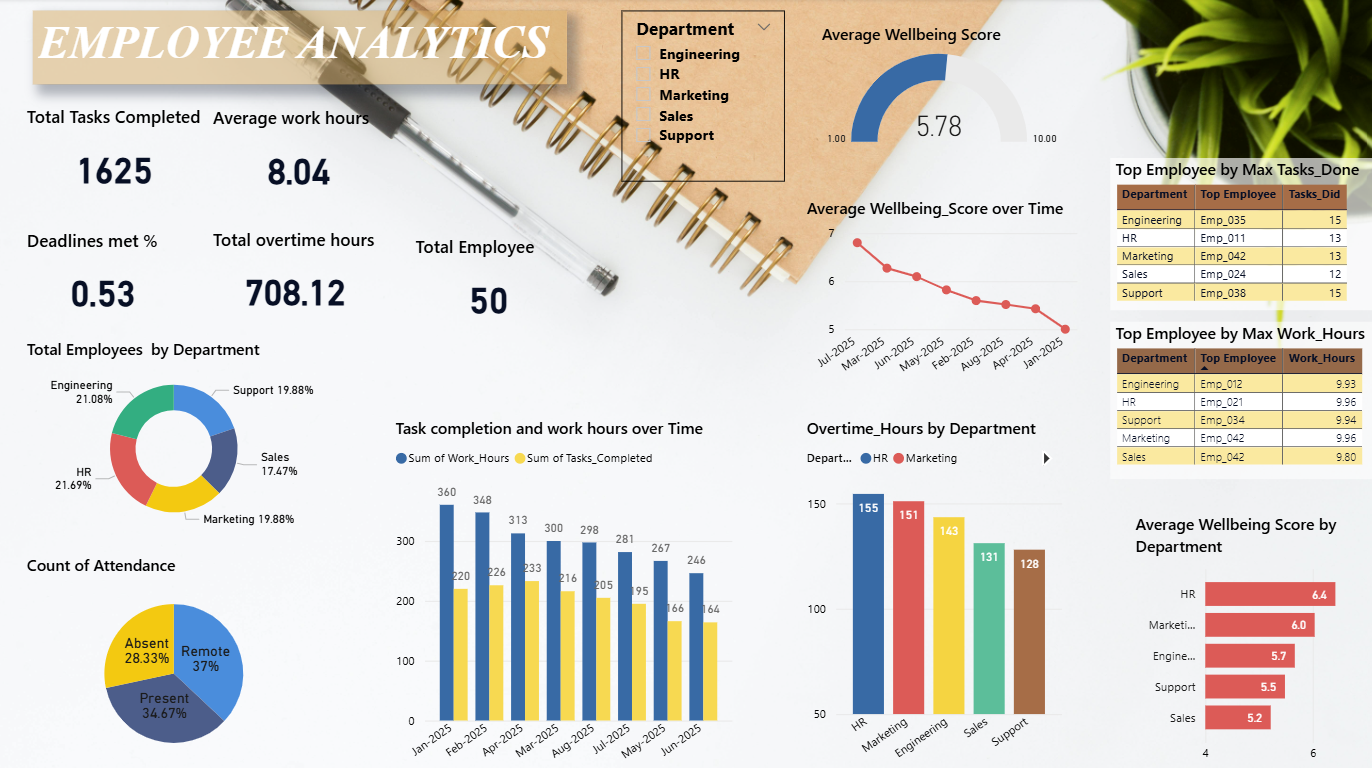

The page's visual inventory and layout, read from the dashboard file:
{"tool":"powerbi","page":{"name":"Page 1","canvas":[1280,720],"ordinal":0},"visuals":[{"type":"card","title":"Average work hours","fields":{"Values":["employee_productivity_wellbeing.Average Work Hours"]},"box":[194.2,100,169.8,96.5],"z":0},{"type":"card","title":"Deadlines met %","fields":{"Values":["employee_productivity_wellbeing.Deadlines Met %"]},"box":[20.9,214,152.3,96.5],"z":1000},{"type":"card","title":"Total Employee","fields":{"Values":["Count(employee_productivity_wellbeing.Employee_ID)"]},"box":[382.6,219.8,145.3,96.5],"z":2000},{"type":"clusteredColumnChart","title":"Task completion and work hours over Time","fields":{"Category":["employee_productivity_wellbeing.Month-Year"],"Y":["Sum(employee_productivity_wellbeing.Work_Hours)","Sum(employee_productivity_wellbeing.Tasks_Completed)"]},"box":[364,389.5,323.3,330.2],"z":3000},{"type":"clusteredBarChart","fields":{"Category":["employee_productivity_wellbeing.Department"],"Y":["employee_productivity_wellbeing.Average Wellbeing Score"]},"box":[1052.3,479.1,227.9,240.7],"z":4000},{"type":"gauge","fields":{"Y":["employee_productivity_wellbeing.Average Wellbeing Score"]},"box":[760.5,23.3,233.7,124.4],"z":5000},{"type":"slicer","fields":{"Values":["employee_productivity_wellbeing.Department"]},"box":[579.1,11.6,152.3,159.3],"z":6000},{"type":"columnChart","title":"Overtime_Hours by Department","fields":{"Category":["employee_productivity_wellbeing.Department"],"Y":["Sum(employee_productivity_wellbeing.Overtime_Hours)"],"Series":["employee_productivity_wellbeing.Department"]},"box":[746.5,389.5,247.7,330.2],"z":7000},{"type":"pieChart","title":"Count of Attendance ","fields":{"Category":["employee_productivity_wellbeing.Attendance"],"Y":["CountNonNull(employee_productivity_wellbeing.Attendance)"]},"box":[20.9,517.4,283.7,202.3],"z":8000},{"type":"donutChart","fields":{"Category":["employee_productivity_wellbeing.Department"],"Y":["Count(employee_productivity_wellbeing.Employee_ID)"]},"box":[20.9,316.3,283.7,186],"z":9000},{"type":"card","title":"Total overtime hours","fields":{"Values":["Sum(employee_productivity_wellbeing.Overtime_Hours)"]},"box":[194.2,212.8,162.8,96.5],"z":10000},{"type":"card","title":"Total Tasks Completed","fields":{"Values":["Sum(employee_productivity_wellbeing.Tasks_Completed)"]},"box":[20.9,98.8,173.3,96.5],"z":11000},{"type":"tableEx","title":"Top Employee by Max Work_Hours ","fields":{"Values":["employee_productivity_wellbeing.Department","employee_productivity_wellbeing.TopEmployeeWorkHoursID","employee_productivity_wellbeing.Max of Work_Hours max per Department"]},"box":[1033.7,301.2,246.5,146.5],"z":12000},{"type":"tableEx","title":"Top Employee by Max Tasks_Done","fields":{"Values":["employee_productivity_wellbeing.Department","employee_productivity_wellbeing.TopEmployeeTasksID","employee_productivity_wellbeing.Max of Tasks_Completed max per Department"]},"box":[1033.7,148.8,246.5,141.9],"z":13000},{"type":"lineChart","title":"Average Wellbeing_Score over Time","fields":{"Category":["employee_productivity_wellbeing.Month-Year"],"Y":["Avg(employee_productivity_wellbeing.Wellbeing_Score)"]},"box":[746.5,184.9,261.6,175.6],"z":14000},{"type":"textbox","box":[31.4,11.6,496.5,68.6],"z":15000}]}

Visuals, with their boxes in screenshot pixels (x1, y1, x2, y2), scaled from the page's 1280x720 canvas onto the 1372x768 screenshot:
"Average work hours" card: x1=208, y1=107, x2=390, y2=210
"Deadlines met %" card: x1=22, y1=228, x2=186, y2=331
"Total Employee" card: x1=410, y1=234, x2=566, y2=337
"Task completion and work hours over Time" clusteredColumnChart: x1=390, y1=415, x2=737, y2=767
clusteredBarChart - employee_productivity_wellbeing.Department x employee_productivity_wellbeing.Average Wellbeing Score: x1=1128, y1=511, x2=1371, y2=767
gauge - employee_productivity_wellbeing.Average Wellbeing Score: x1=815, y1=25, x2=1066, y2=158
slicer - employee_productivity_wellbeing.Department: x1=621, y1=12, x2=784, y2=182
"Overtime_Hours by Department" columnChart: x1=800, y1=415, x2=1066, y2=767
"Count of Attendance " pieChart: x1=22, y1=552, x2=326, y2=767
donutChart - employee_productivity_wellbeing.Department x Count(employee_productivity_wellbeing.Employee_ID): x1=22, y1=337, x2=326, y2=536
"Total overtime hours" card: x1=208, y1=227, x2=383, y2=330
"Total Tasks Completed" card: x1=22, y1=105, x2=208, y2=208
"Top Employee by Max Work_Hours " tableEx: x1=1108, y1=321, x2=1371, y2=478
"Top Employee by Max Tasks_Done" tableEx: x1=1108, y1=159, x2=1371, y2=310
"Average Wellbeing_Score over Time" lineChart: x1=800, y1=197, x2=1081, y2=385
textbox: x1=34, y1=12, x2=566, y2=86
